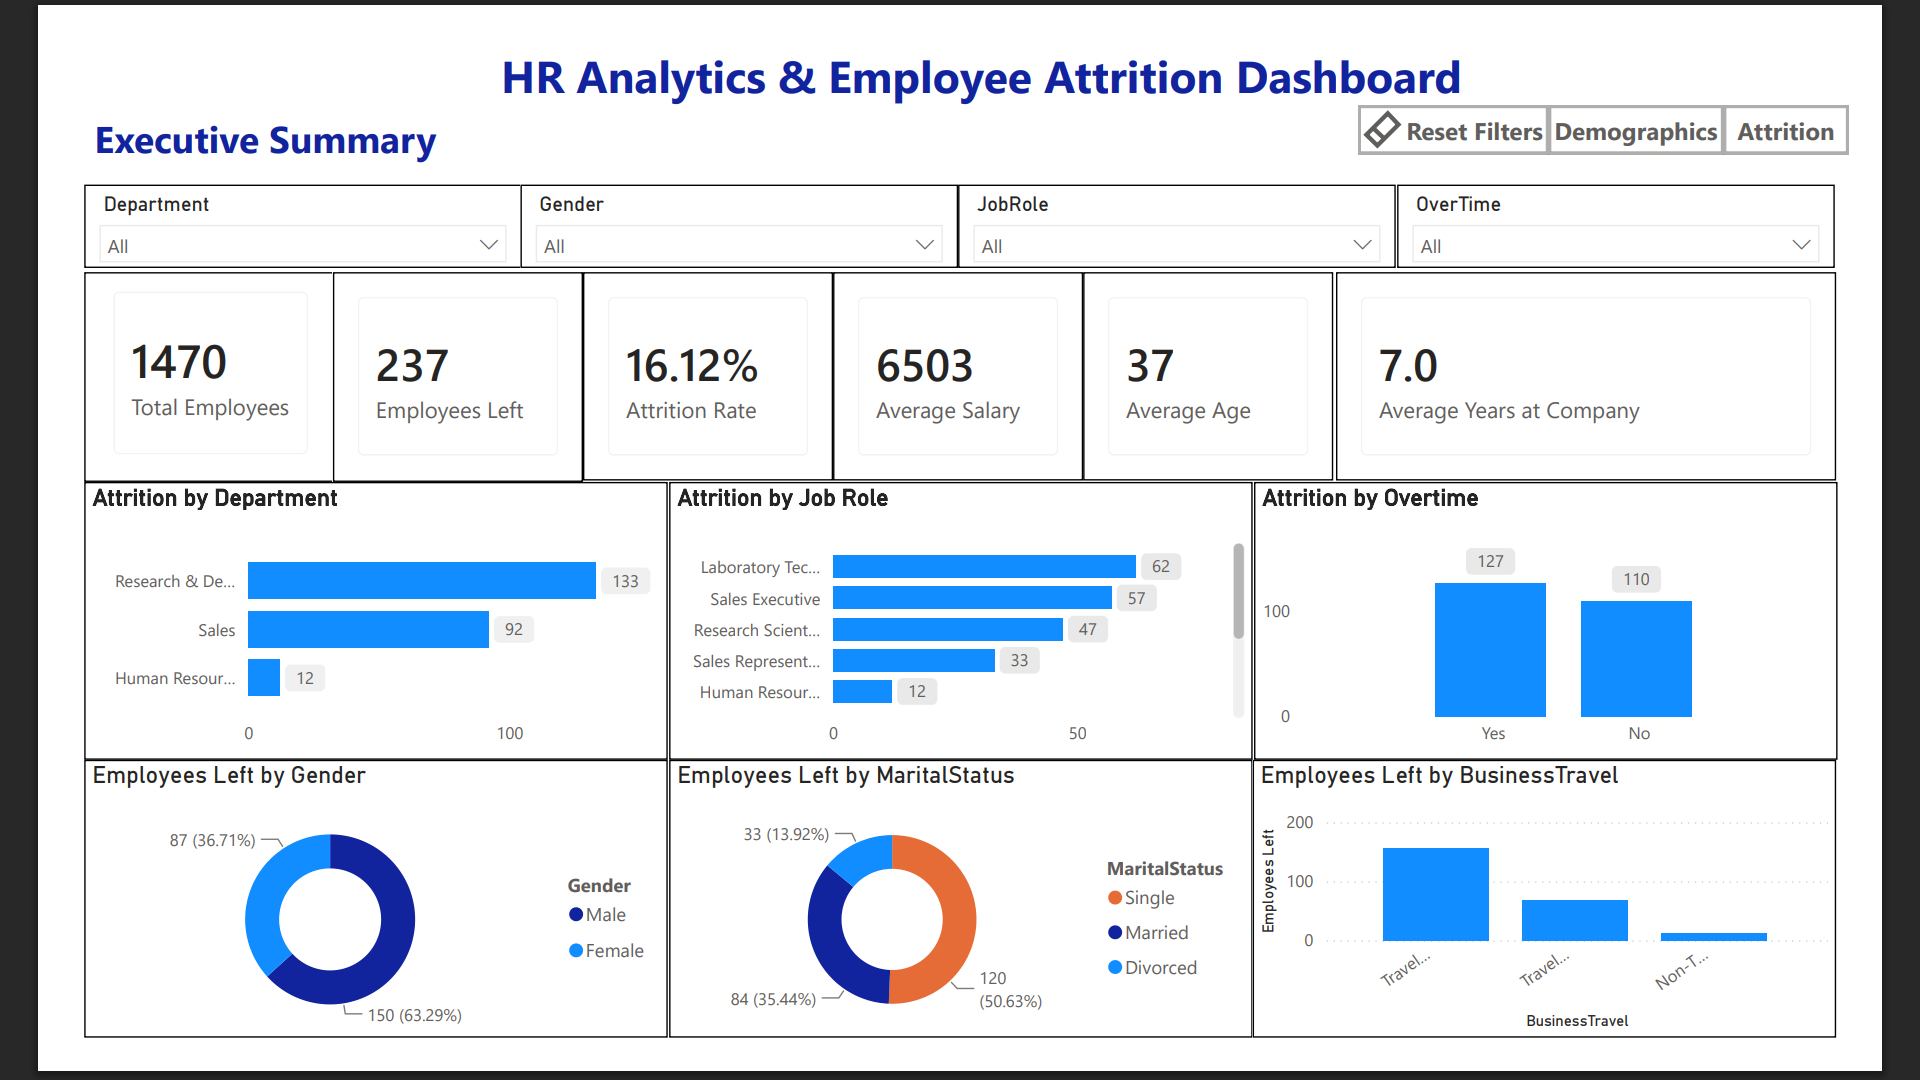

The dashboard page shown, as its layout file describes it:
{"tool":"powerbi","page":{"name":"Executive Summary\"","canvas":[1280,720],"ordinal":0},"visuals":[{"type":"cardVisual","fields":{"Data":["Measure Table.Total Employees"]},"box":[9.6,168.8,180,150.9],"z":0},{"type":"cardVisual","fields":{"Data":["Measure Table.Employees Left"]},"box":[189.4,168.8,180,150.9],"z":1000},{"type":"cardVisual","fields":{"Data":["Measure Table.Attrition Rate"]},"box":[369.1,170.2,180,150],"z":2000},{"type":"cardVisual","fields":{"Data":["Measure Table.Average Salary"]},"box":[551.6,168.8,180,150],"z":3000},{"type":"cardVisual","fields":{"Data":["Measure Table.Average Age"]},"box":[731.4,168.8,180,150],"z":4000},{"type":"cardVisual","fields":{"Data":["Measure Table.Average Years at Company"]},"box":[911.2,168.8,360,150],"z":5000},{"type":"textbox","box":[248.4,0,812.4,68.6],"z":6000},{"type":"textbox","box":[0,49.4,281.3,56.3],"z":7000},{"type":"clusteredBarChart","title":"Attrition by Department","fields":{"Category":["Employees.Department"],"Y":["Measure Table.Employees Left"]},"box":[9.6,319.7,420,200],"z":8000},{"type":"clusteredBarChart","title":"Attrition by Job Role","fields":{"Y":["Measure Table.Employees Left"],"Category":["Employees.JobRole"]},"box":[430.9,319.7,420,200],"z":9000},{"type":"clusteredColumnChart","title":"Attrition by Overtime","fields":{"Category":["Employees.OverTime"],"Y":["Measure Table.Employees Left"]},"box":[852.1,319.7,420,200],"z":10000},{"type":"donutChart","fields":{"Category":["Employees.MaritalStatus"],"Y":["Measure Table.Employees Left"]},"box":[430.9,520.1,420,200],"z":11000},{"type":"donutChart","fields":{"Y":["Measure Table.Employees Left"],"Category":["Employees.Gender"]},"box":[9.6,520.1,420,200],"z":12000},{"type":"clusteredColumnChart","fields":{"Category":["Employees.BusinessTravel"],"Y":["Measure Table.Employees Left"]},"box":[850.8,520.1,420,200],"z":13000},{"type":"slicer","fields":{"Values":["Employees.Department"]},"box":[9.6,105.7,315,60],"z":14000},{"type":"slicer","fields":{"Values":["Employees.Gender"]},"box":[323.8,105.7,315,60],"z":15000},{"type":"slicer","fields":{"Values":["Employees.JobRole"]},"box":[639.5,105.7,315,60],"z":16000},{"type":"slicer","fields":{"Values":["Employees.OverTime"]},"box":[955.1,105.7,315,60],"z":17000},{"type":"actionButton","box":[1158.2,0,113.9,49.4],"z":18000}]}

Visuals, with their boxes in screenshot pixels (x1, y1, x2, y2), scaled from the page's 1280x720 canvas onto the 1920x1080 screenshot:
cardVisual - Measure Table.Total Employees: crop(14, 253, 284, 480)
cardVisual - Measure Table.Employees Left: crop(284, 253, 554, 480)
cardVisual - Measure Table.Attrition Rate: crop(554, 255, 824, 480)
cardVisual - Measure Table.Average Salary: crop(827, 253, 1097, 478)
cardVisual - Measure Table.Average Age: crop(1097, 253, 1367, 478)
cardVisual - Measure Table.Average Years at Company: crop(1367, 253, 1907, 478)
textbox: crop(373, 0, 1591, 103)
textbox: crop(0, 74, 422, 159)
"Attrition by Department" clusteredBarChart: crop(14, 480, 644, 780)
"Attrition by Job Role" clusteredBarChart: crop(646, 480, 1276, 780)
"Attrition by Overtime" clusteredColumnChart: crop(1278, 480, 1908, 780)
donutChart - Employees.MaritalStatus x Measure Table.Employees Left: crop(646, 780, 1276, 1079)
donutChart - Measure Table.Employees Left x Employees.Gender: crop(14, 780, 644, 1079)
clusteredColumnChart - Employees.BusinessTravel x Measure Table.Employees Left: crop(1276, 780, 1906, 1079)
slicer - Employees.Department: crop(14, 159, 487, 249)
slicer - Employees.Gender: crop(486, 159, 958, 249)
slicer - Employees.JobRole: crop(959, 159, 1432, 249)
slicer - Employees.OverTime: crop(1433, 159, 1905, 249)
actionButton: crop(1737, 0, 1908, 74)
